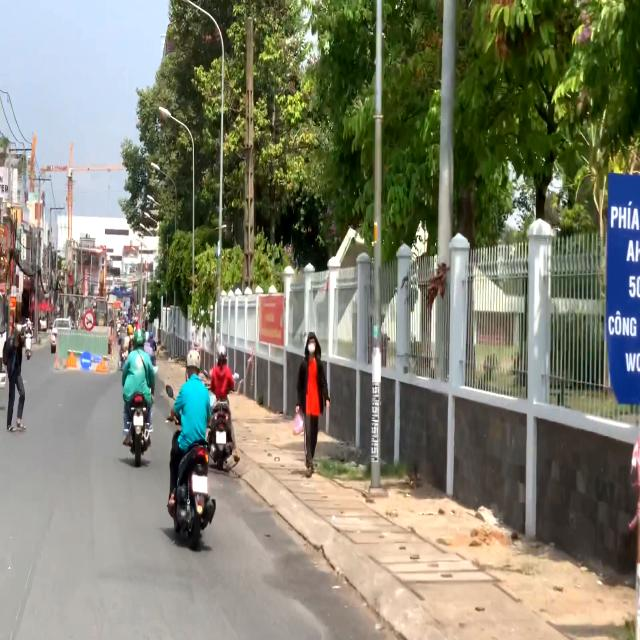P.103a: (84, 312, 95, 331)
R.301c: (81, 352, 91, 370)
W.203b: (66, 350, 77, 368)
